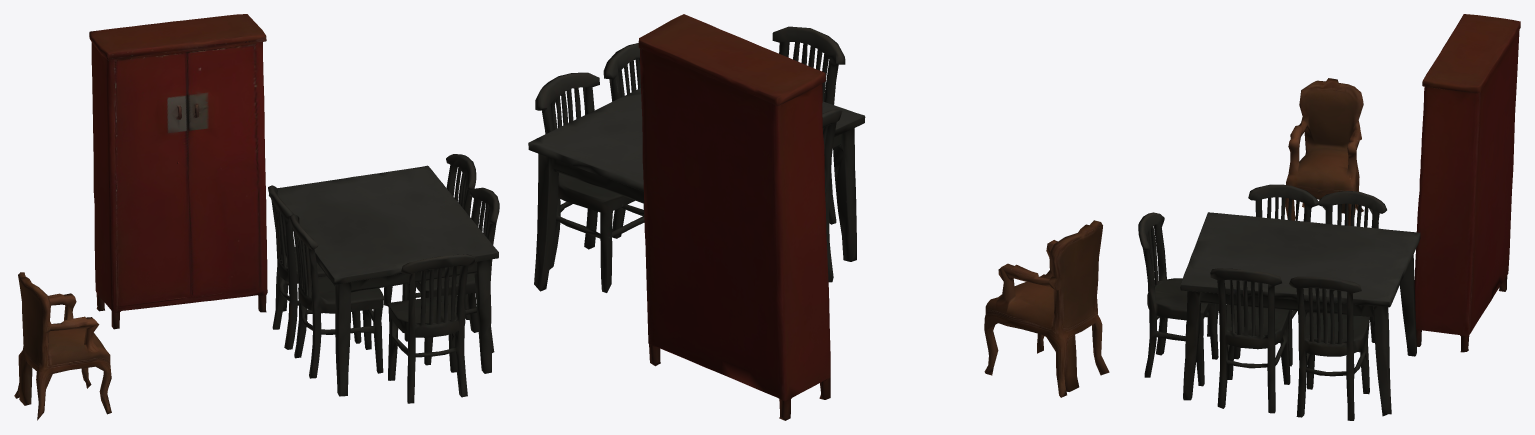
Rendered from bodrum-salon-1.glb.
3 renders of one model, left to right at view 1: azimuth 30°, elevation 25°; view 2: azimuth 150°, elevation 25°; view 3: azimuth 270°, elevation 25°, orthographic. The views are drawn at different scales.
Parts seen in each view (by area): view 1: tripo_node_116bb3dc-486e-4dc4-afd9-a3ce378d2541; view 2: tripo_node_116bb3dc-486e-4dc4-afd9-a3ce378d2541; view 3: tripo_node_116bb3dc-486e-4dc4-afd9-a3ce378d2541.
Boxes of the visible parts, left/top/right/bottom form: tripo_node_116bb3dc-486e-4dc4-afd9-a3ce378d2541: left=14, top=14, right=499, bottom=420; tripo_node_116bb3dc-486e-4dc4-afd9-a3ce378d2541: left=528, top=14, right=1109, bottom=420; tripo_node_116bb3dc-486e-4dc4-afd9-a3ce378d2541: left=1138, top=14, right=1520, bottom=420.
Bounding box in the file's own units: 1 × 0.5865 × 0.7499.
1 material, 1 textured.
